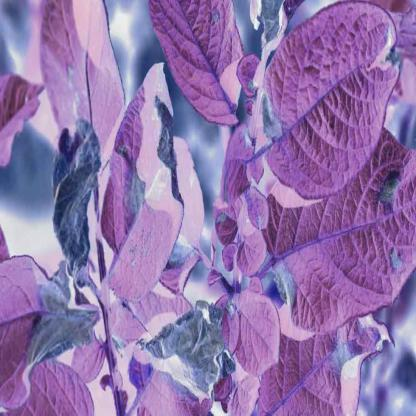Potato leaf late blight: (260, 140, 416, 330), (92, 59, 180, 310), (258, 310, 395, 416), (146, 1, 250, 121), (140, 298, 239, 416), (46, 102, 101, 294)
